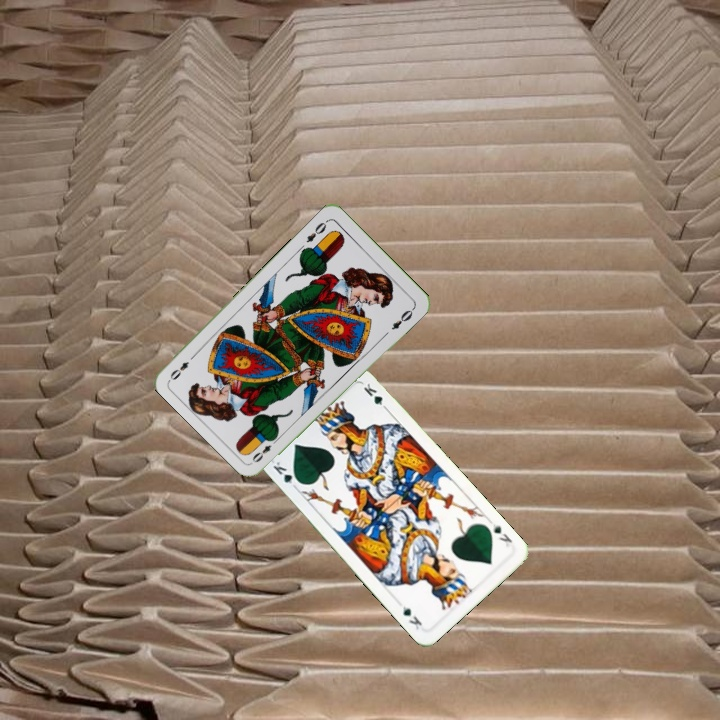EO: (248, 433, 281, 465), (302, 216, 331, 245)
GK: (269, 457, 304, 492), (488, 519, 515, 549)
